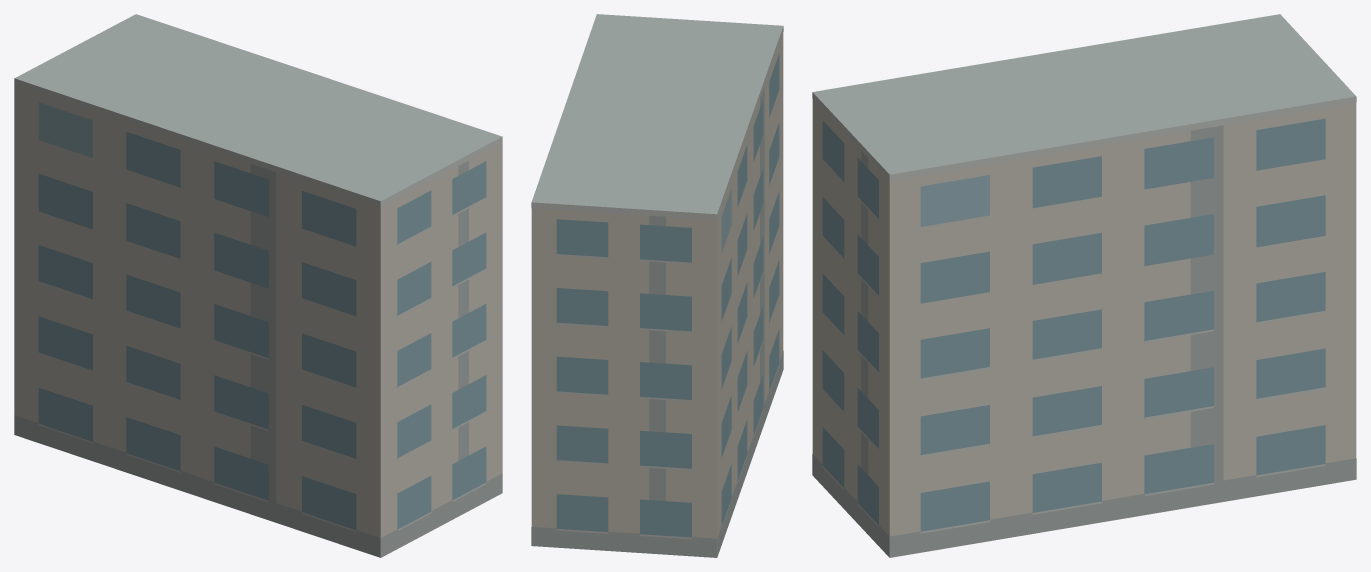
File: survey-upis-32881910.glb
3 views of the same model, side by side, from view 1: azimuth 30°, elevation 25°; view 2: azimuth 150°, elevation 25°; view 3: azimuth 270°, elevation 25° (orthographic). The views are drawn at different scales.
Visible parts, largest first — view 1: survey-upis-32881910.tmp; view 2: survey-upis-32881910.tmp; view 3: survey-upis-32881910.tmp.
Part boxes in pixels (x1,y1,x2,y2): survey-upis-32881910.tmp: (14,14,502,557); survey-upis-32881910.tmp: (531,14,783,557); survey-upis-32881910.tmp: (812,14,1356,557).
Bounding box in the file's own units: 12.87 × 14.3 × 18.41.
